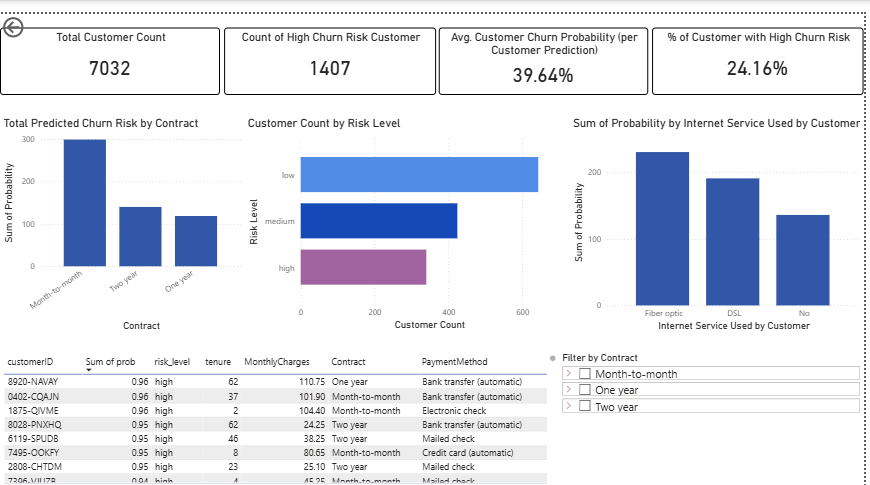

The dashboard page shown, as its layout file describes it:
{"tool":"powerbi","page":{"name":"Page 1","canvas":[1280,720],"ordinal":0},"visuals":[{"type":"card","title":"Total Customer Count","fields":{"Values":["CountNonNull(churn_customers.customerID)"]},"box":[0,20,326,100],"z":0},{"type":"actionButton","box":[0,0,100,40],"z":1000},{"type":"card","title":"Count of High Churn Risk Customer","fields":{"Values":["CountNonNull(churn_scoring.risk_level)"]},"box":[332,20,314,100],"z":2000},{"type":"card","title":"Avg. Customer Churn Probability (per Customer Prediction)","fields":{"Values":["Avg(churn_scoring.prob)"]},"box":[650,20,310,100],"z":3000},{"type":"clusteredBarChart","fields":{"Category":["churn_scoring.risk_level"],"Y":["CountNonNull(churn_customers.customerID)"]},"box":[362.9,152.9,481.4,321.4],"z":4000},{"type":"clusteredColumnChart","title":"Total Predicted Churn Risk by Contract","fields":{"Y":["Sum(churn_scoring.prob)"],"Category":["churn_customers.Contract"]},"box":[0,152.9,362.9,322.9],"z":5000},{"type":"clusteredColumnChart","fields":{"Y":["Sum(churn_scoring.prob)"],"Category":["churn_customers.InternetService"]},"box":[844.3,152.9,435.7,322.9],"z":6000},{"type":"tableEx","fields":{"Values":["churn_customers.customerID","Sum(churn_scoring.prob)","churn_scoring.risk_level","churn_customers.tenure","churn_customers.MonthlyCharges","churn_customers.Contract","churn_customers.PaymentMethod"]},"box":[0,500,828.3,220],"z":7000},{"type":"card","title":"% of Customer with High Churn Risk","fields":{"Values":["churn_scoring.High Risk %"]},"box":[966.9,20,313.1,100],"z":8000},{"type":"listSlicer","title":"Filter by Contract","fields":{"Values":["churn_customers.Contract","churn_customers.InternetService","churn_scoring.risk_level"]},"box":[828.3,500,451.7,220],"z":9000}]}

Visuals, with their boxes in screenshot pixels (x1, y1, x2, y2), scaled from the page's 1280x720 canvas onto the 870x485 screenshot:
"Total Customer Count" card: <box>0,13,222,81</box>
actionButton: <box>0,0,68,27</box>
"Count of High Churn Risk Customer" card: <box>226,13,439,81</box>
"Avg. Customer Churn Probability (per Customer Prediction)" card: <box>442,13,652,81</box>
clusteredBarChart - churn_scoring.risk_level x CountNonNull(churn_customers.customerID): <box>247,103,574,319</box>
"Total Predicted Churn Risk by Contract" clusteredColumnChart: <box>0,103,247,321</box>
clusteredColumnChart - Sum(churn_scoring.prob) x churn_customers.InternetService: <box>574,103,869,321</box>
tableEx - churn_customers.customerID x Sum(churn_scoring.prob): <box>0,337,563,484</box>
"% of Customer with High Churn Risk" card: <box>657,13,869,81</box>
"Filter by Contract" listSlicer: <box>563,337,869,484</box>
